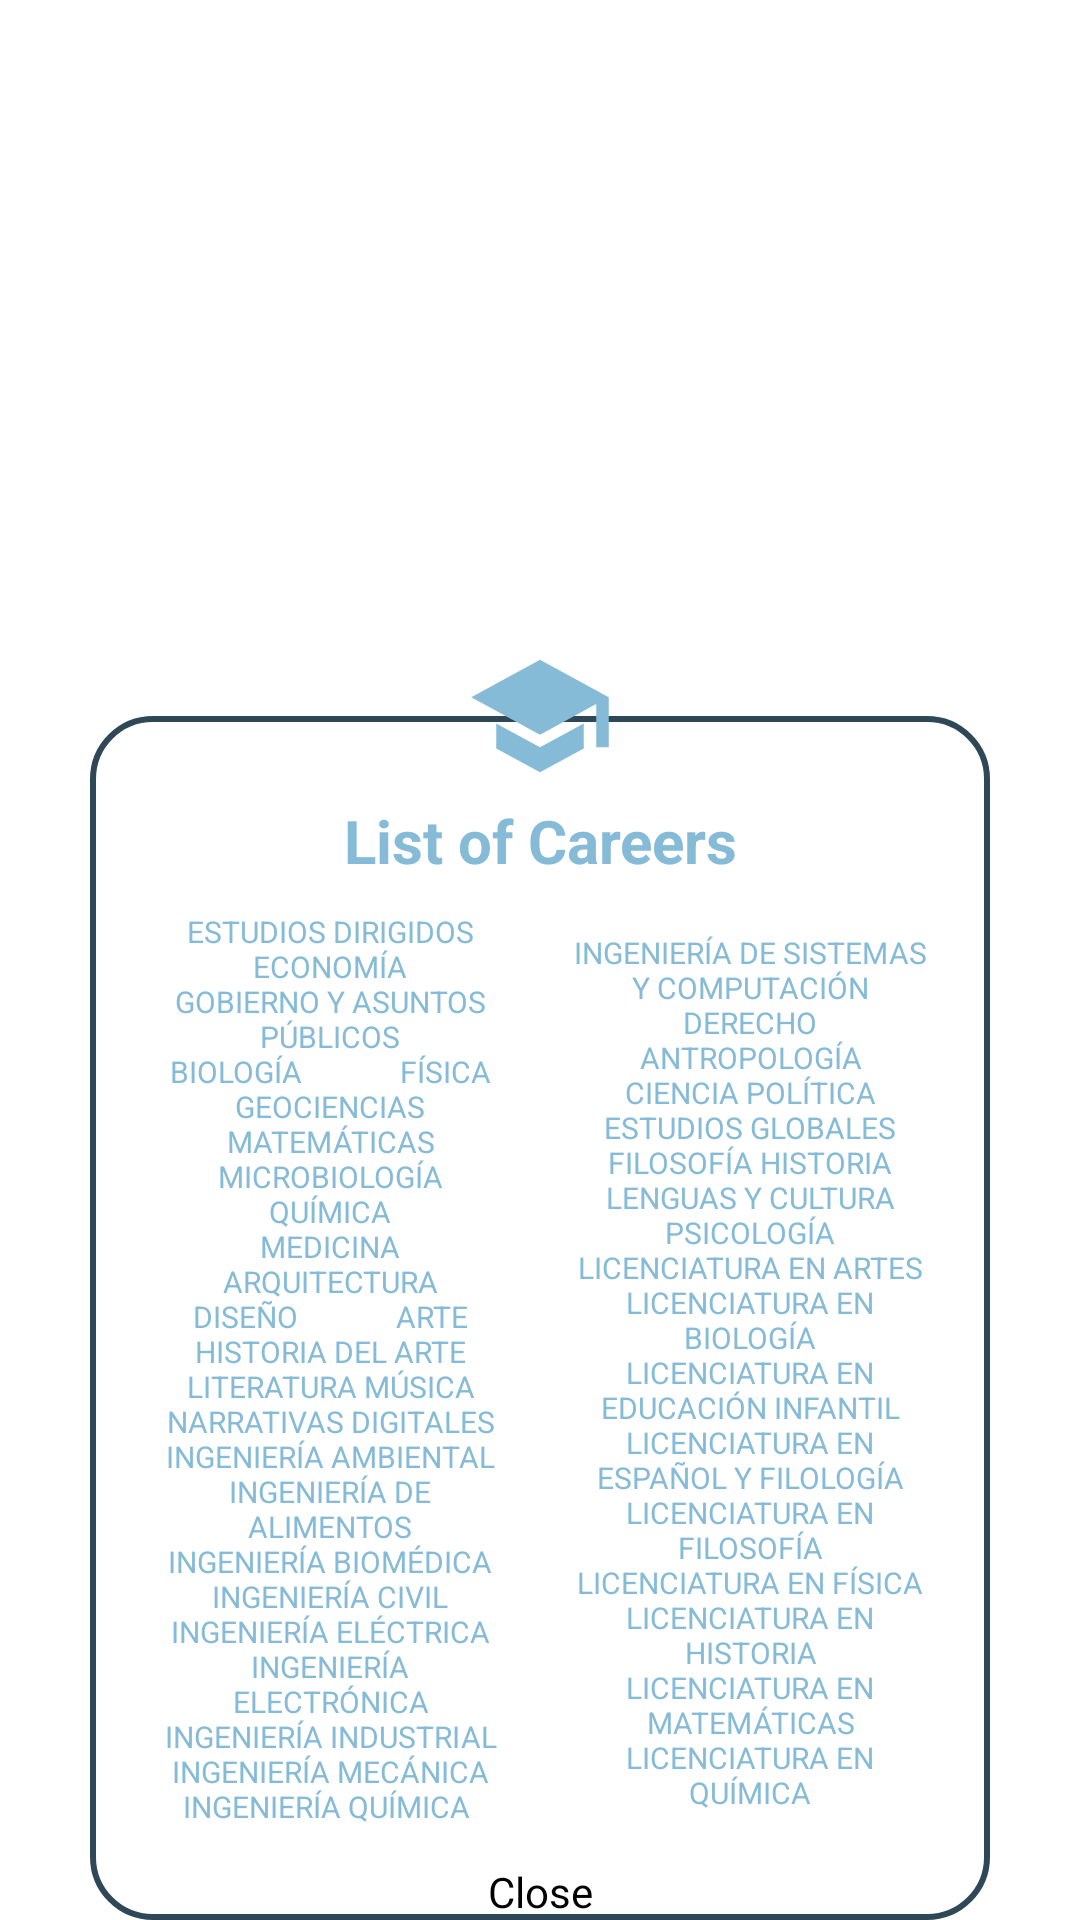

Point at icon controls on the screen. Image size 1080 × 1920, points as (x=x, y=y).
school: (x=540, y=716)
